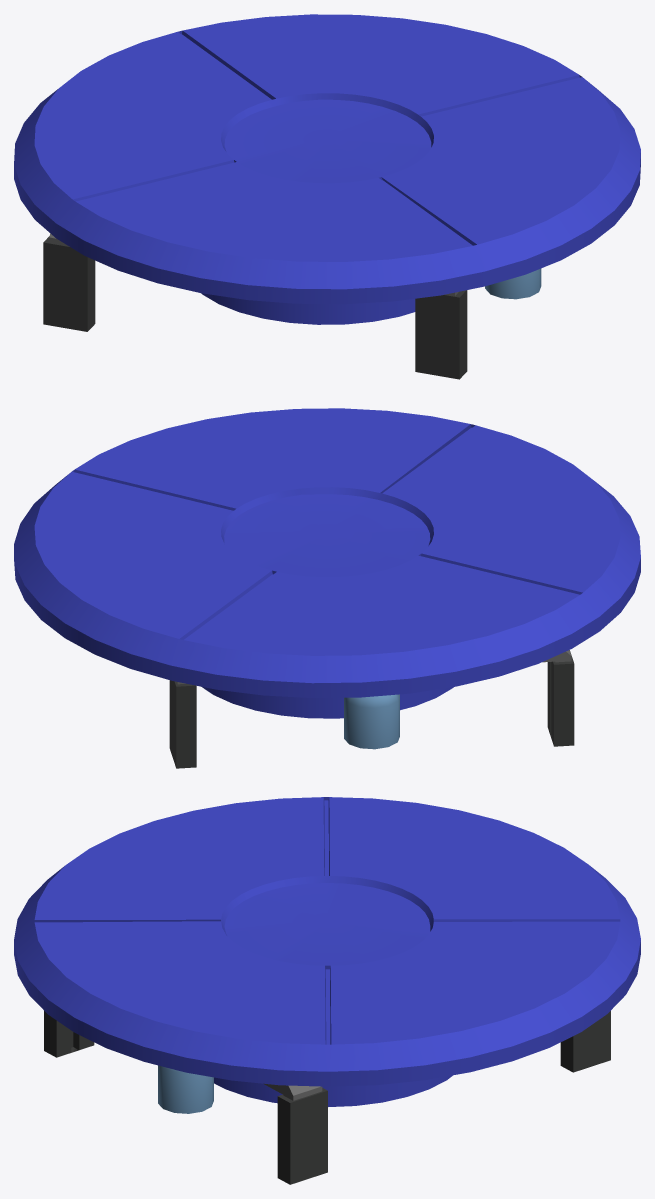
Rendered from Button_Inner_Blue.obj.
3 views of the same model, one above another, from view 1: azimuth 30°, elevation 25°; view 2: azimuth 150°, elevation 25°; view 3: azimuth 270°, elevation 25° (orthographic).
Parts seen in each view (by area): view 1: Body.dmx/button_model.dmx.mesh_0; view 2: Body.dmx/button_model.dmx.mesh_0; view 3: Body.dmx/button_model.dmx.mesh_0.
Part boxes in pixels (x1,y1,x2,y2): Body.dmx/button_model.dmx.mesh_0: (14,14,640,379); Body.dmx/button_model.dmx.mesh_0: (14,408,640,768); Body.dmx/button_model.dmx.mesh_0: (14,797,640,1184).
Size of the model in its own units: 63.59 by 15.1 by 63.61.
